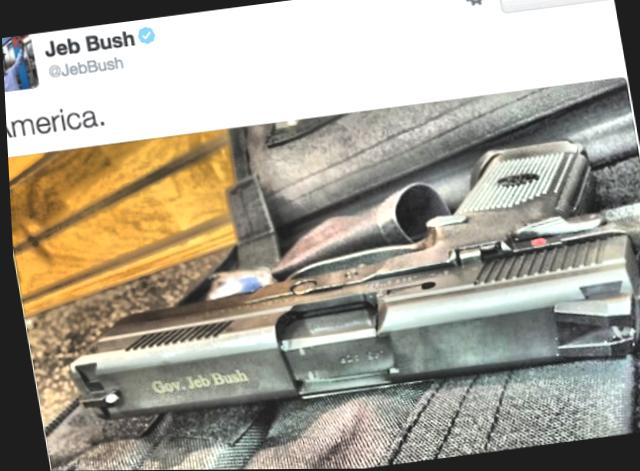pistol: (38, 133, 640, 431)
